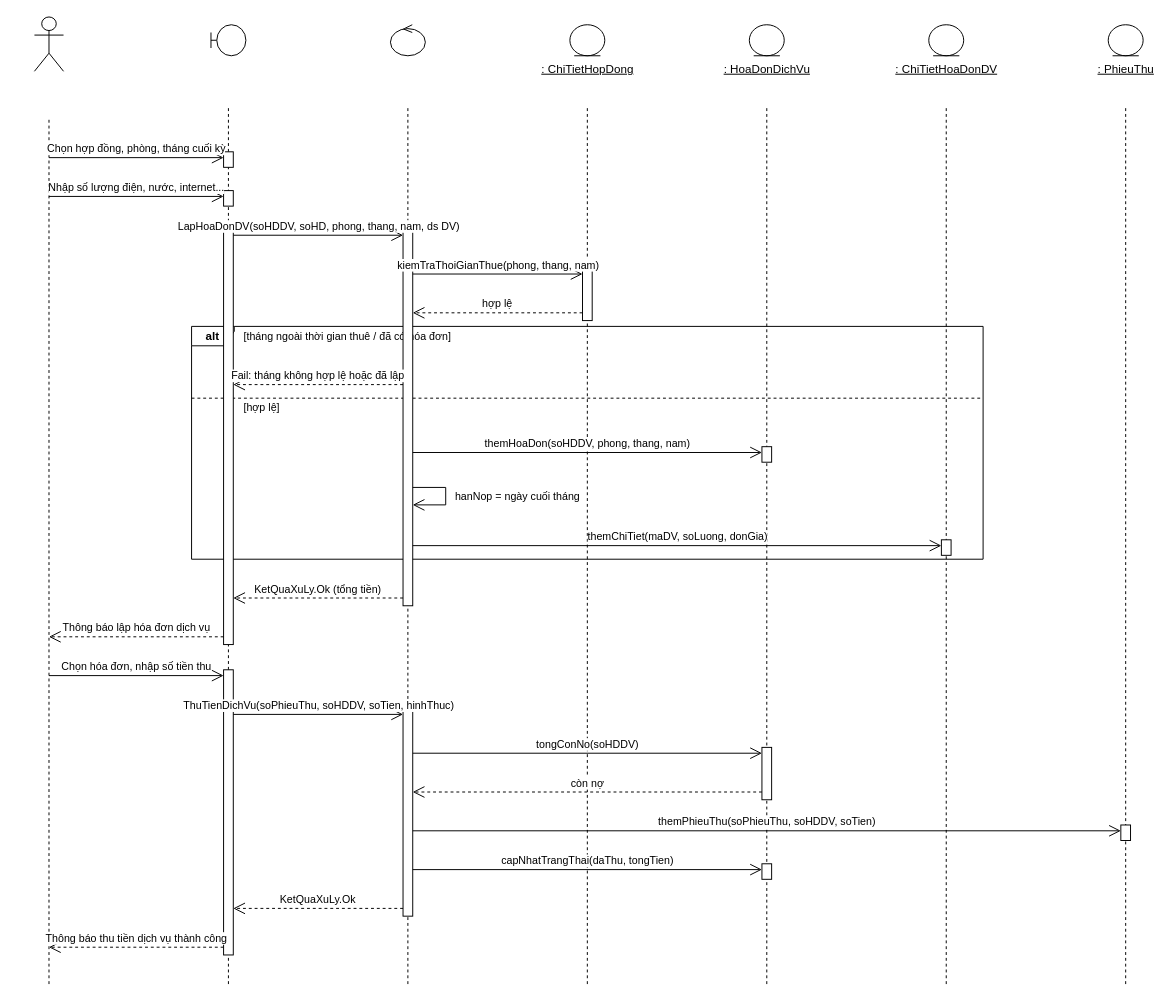
Image size: 1171x1004. Some labels were removed from this diagram. Here are the shapes that lost their labels. From the top down, the centre of each, then its label:
At (x=48, y=43): ": NV kế toán".
At (x=228, y=40): ": FrmThanhToan".
At (x=407, y=40): ": ThanhToanService".
